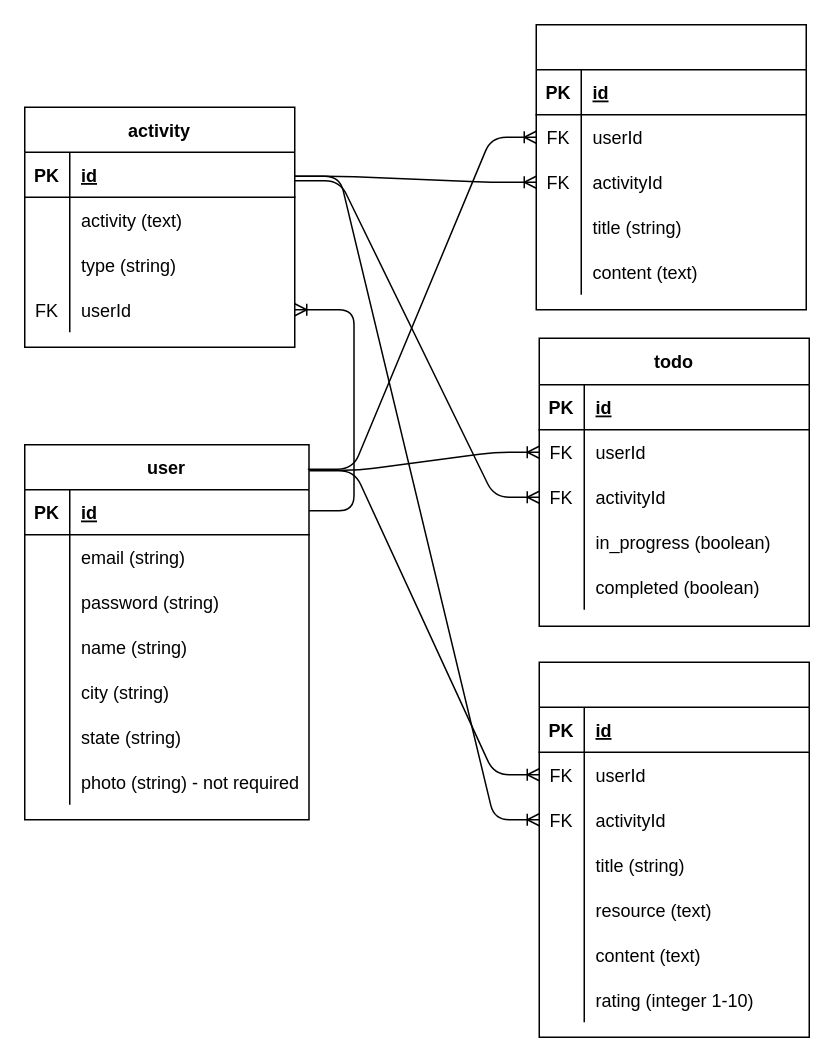
The diagram is 834 pixels wide and 1062 high, and some of its shapes have lost their labels. The shapes that lost their labels are listed below. From the top down, each one's box as (x1, y1, x2, y2) in pixels, then its label:
(535, 23, 806, 310): log
(538, 661, 809, 1037): recommendation
